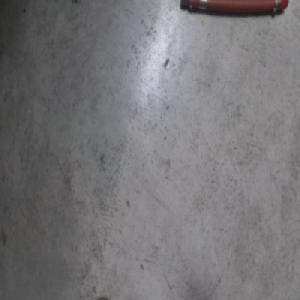Hose: (179, 0, 290, 18)
